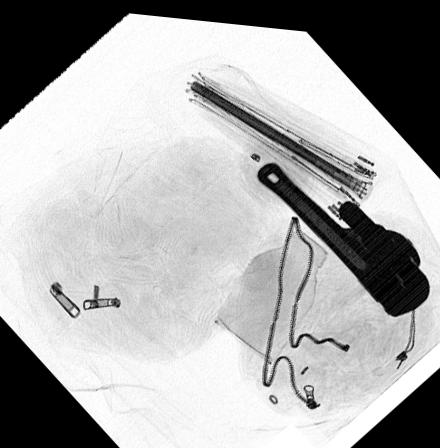Wrench: (254, 155, 432, 308)
